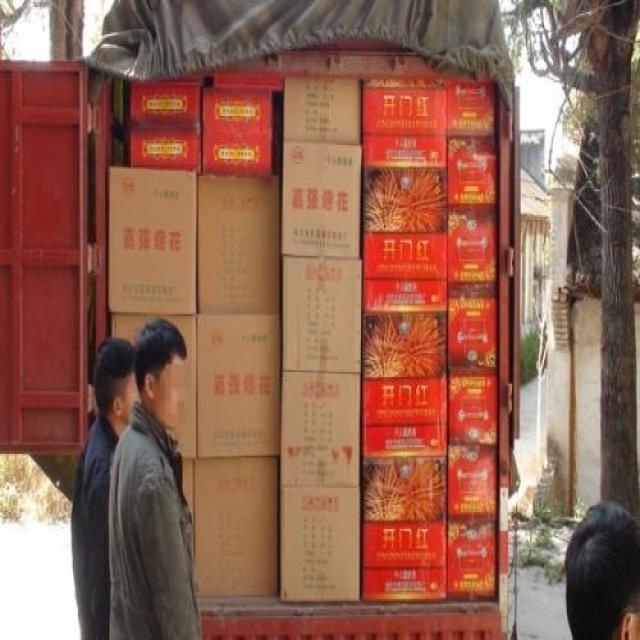box: (108, 167, 197, 314), (362, 280, 449, 427), (364, 133, 447, 280), (364, 425, 448, 567), (193, 456, 278, 596), (197, 316, 280, 457), (198, 176, 280, 314), (283, 256, 362, 375), (282, 140, 361, 259), (280, 486, 361, 602), (280, 370, 361, 486), (283, 79, 361, 145), (364, 75, 448, 135), (448, 283, 497, 369), (447, 444, 497, 522), (448, 521, 497, 599), (447, 210, 497, 283), (129, 80, 202, 130), (449, 369, 497, 444), (201, 85, 273, 135), (448, 137, 497, 210), (131, 126, 202, 172), (202, 131, 273, 176), (362, 567, 448, 602), (448, 77, 494, 140), (212, 72, 284, 90), (182, 457, 196, 522)
